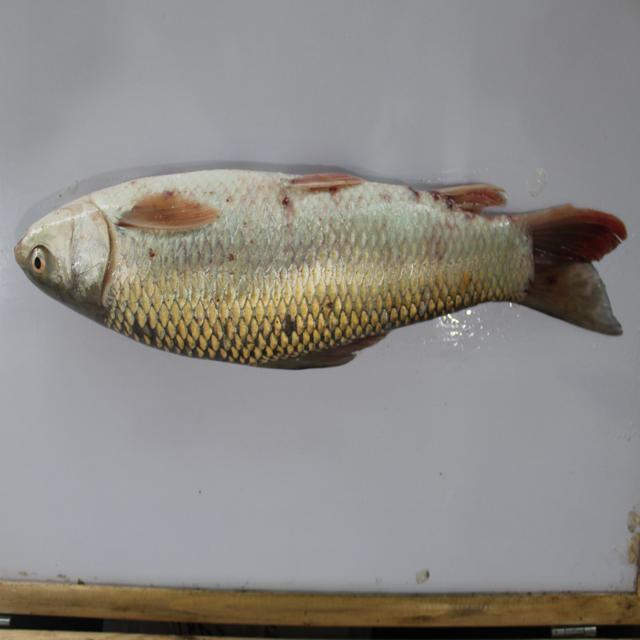Mori: (12, 157, 640, 390)
